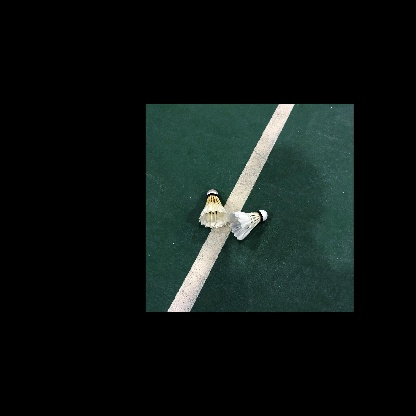ball_single: (199, 189, 230, 229), (228, 210, 267, 241)
